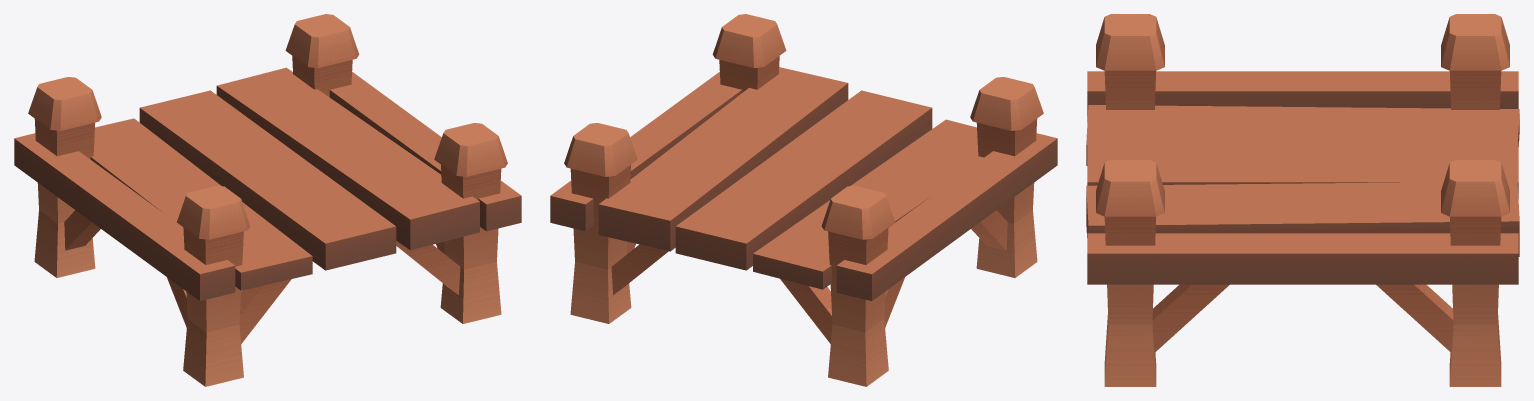
The model's file is structure-platform_dock_no_normal.glb.
The picture shows the model from 3 angles, left to right: view 1: azimuth 30°, elevation 25°; view 2: azimuth 150°, elevation 25°; view 3: azimuth 270°, elevation 25°; orthographic projection. The views are drawn at different scales.
Parts seen in each view (by area): view 1: structure-platform-dock; view 2: structure-platform-dock; view 3: structure-platform-dock.
Part boxes in pixels (left/top/right/bottom): structure-platform-dock: left=14, top=14, right=521, bottom=386; structure-platform-dock: left=550, top=14, right=1057, bottom=386; structure-platform-dock: left=1086, top=14, right=1519, bottom=386.
Bounding box in the file's own units: 2.5 × 1.31 × 2.51.
Materials: 1 (1 with a texture image).
